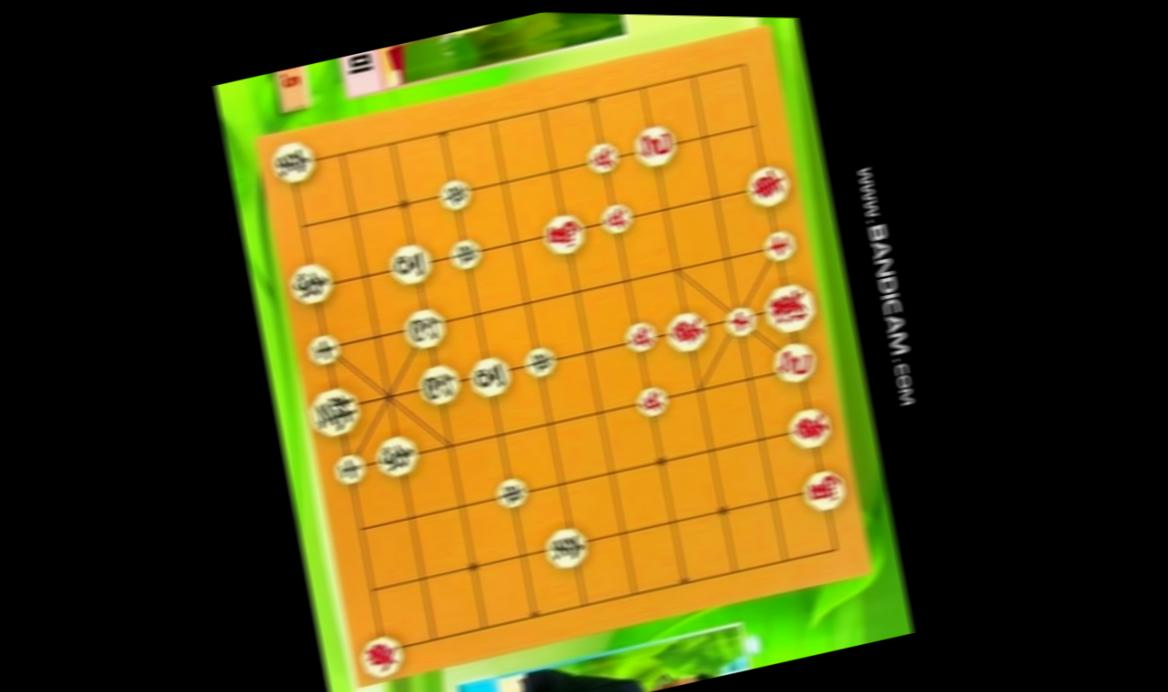cha_green: (266, 135, 319, 187), (542, 523, 592, 573)
cha_red: (354, 628, 408, 680), (742, 160, 792, 211)
jol_green: (490, 473, 532, 513), (437, 173, 474, 213), (447, 234, 483, 273), (523, 341, 559, 380)
jol_red: (581, 137, 624, 179), (631, 379, 673, 421), (619, 315, 661, 357), (597, 198, 636, 238)
ma_green: (385, 239, 435, 289), (464, 351, 515, 400)
ma_red: (798, 465, 849, 517), (541, 208, 589, 258)
po_green: (399, 302, 449, 351), (415, 360, 462, 406)
po_red: (770, 335, 822, 388), (630, 119, 681, 171)
sa_green: (305, 328, 342, 368), (332, 448, 368, 488)
sa_red: (758, 225, 799, 265), (720, 301, 759, 342)
sang_green: (371, 430, 423, 481), (284, 259, 336, 306)
sang_red: (782, 403, 835, 455), (660, 306, 713, 357)
wang_green: (306, 385, 363, 439)
wang_red: (760, 276, 821, 335)
